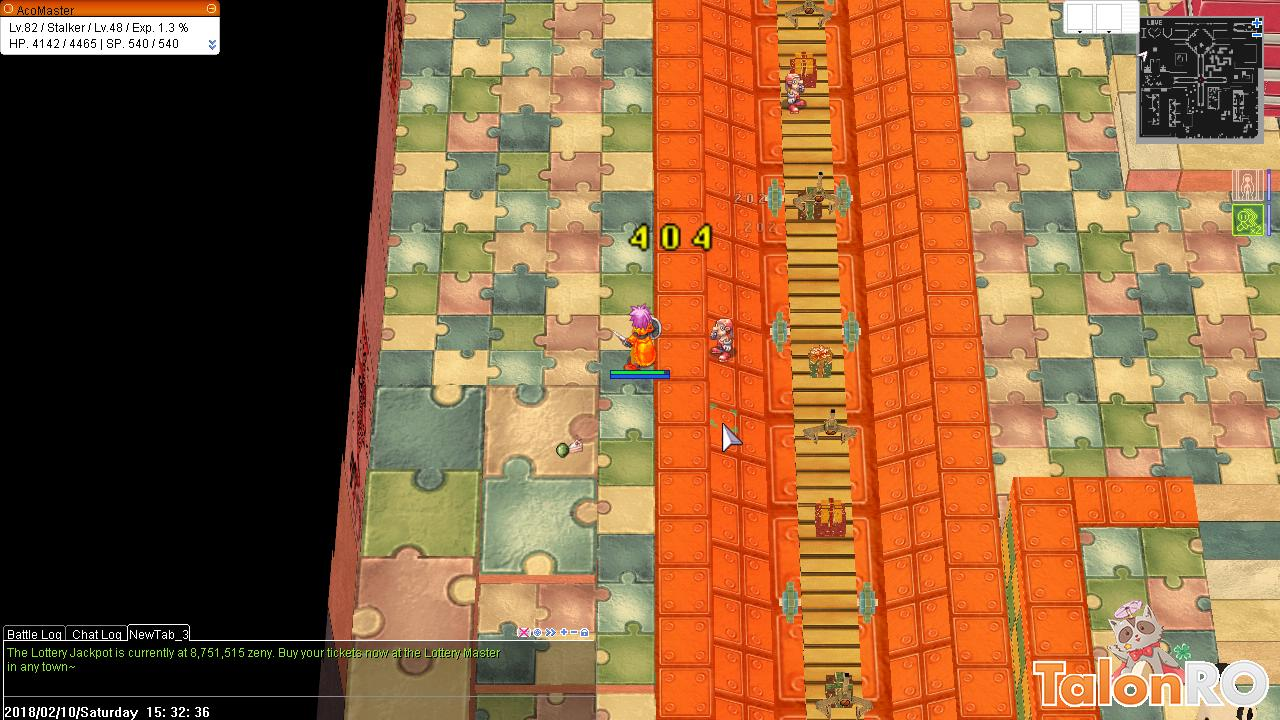loot: (554, 440, 571, 463), (571, 439, 588, 457)
